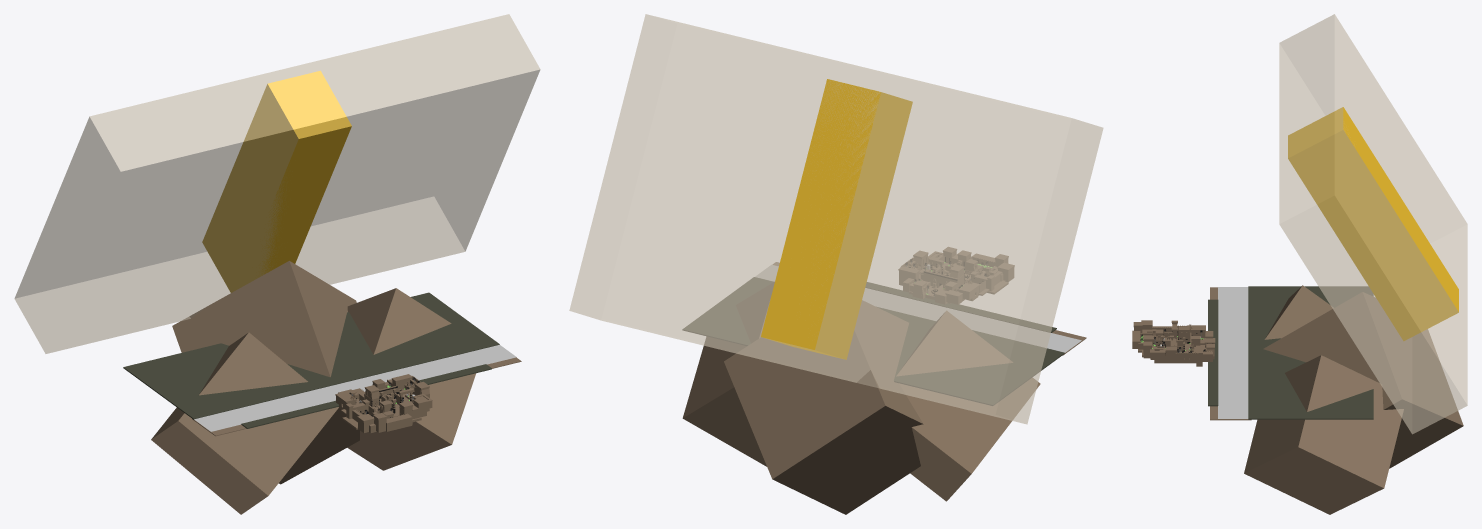
The model's file is Oasis.obj.
3 views of the same model, side by side, from view 1: azimuth 30°, elevation 25°; view 2: azimuth 150°, elevation 25°; view 3: azimuth 270°, elevation 25° (orthographic). The views are drawn at different scales.
Size of the model in its own units: 4117 by 4030 by 3218.
